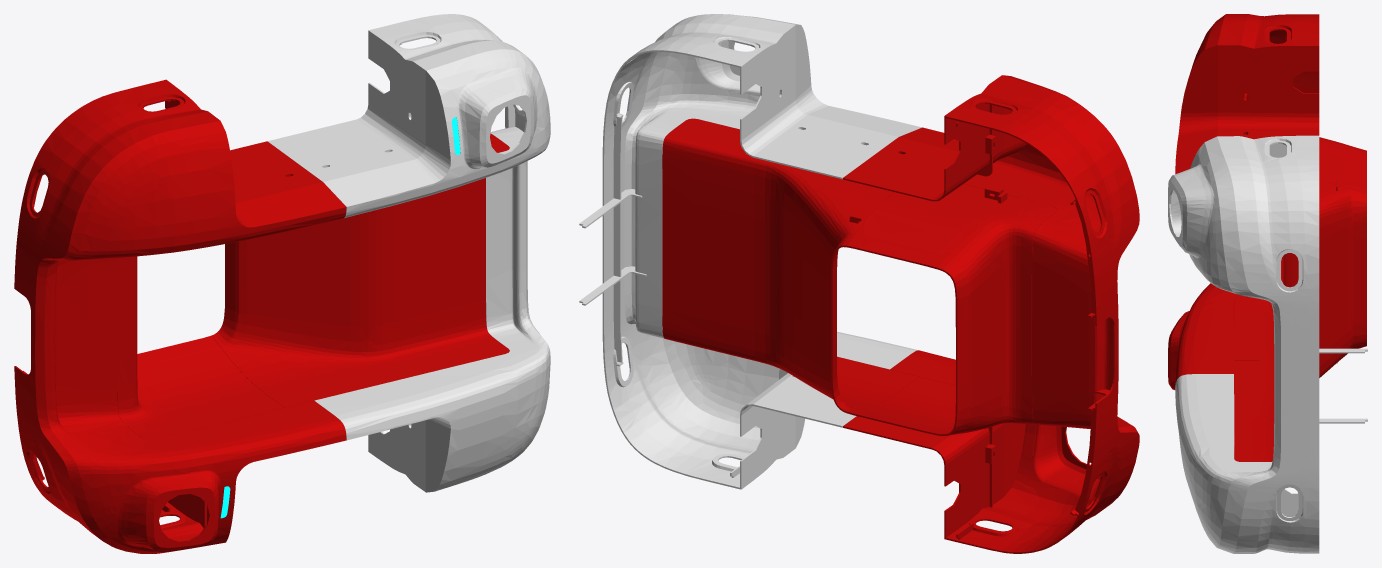
The model's file is shell_sinopec.glb.
The picture shows the model from 3 angles, left to right: view 1: azimuth 30°, elevation 25°; view 2: azimuth 150°, elevation 25°; view 3: azimuth 270°, elevation 25°; orthographic projection. The views are drawn at different scales.
Visible parts, largest first — view 1: front shell, back shell, back inner shell, front inner shell; view 2: back shell, front shell, back inner shell, front inner shell; view 3: back shell, front shell, back inner shell, front inner shell.
Part boxes in pixels (<box>): front shell: <box>14,79,346,553</box>; back shell: <box>267,14,550,492</box>; back inner shell: <box>211,133,509,407</box>; front inner shell: <box>117,256,284,439</box>; back shell: <box>579,14,921,489</box>; front shell: <box>843,75,1139,553</box>; back inner shell: <box>662,118,918,412</box>; front inner shell: <box>846,184,1056,435</box>; back shell: <box>1168,135,1367,553</box>; front shell: <box>1168,14,1319,393</box>; back inner shell: <box>1234,181,1366,461</box>; front inner shell: <box>1234,137,1366,360</box>.
Bounding box in the file's own units: 0.6695 × 0.5476 × 0.2587.
